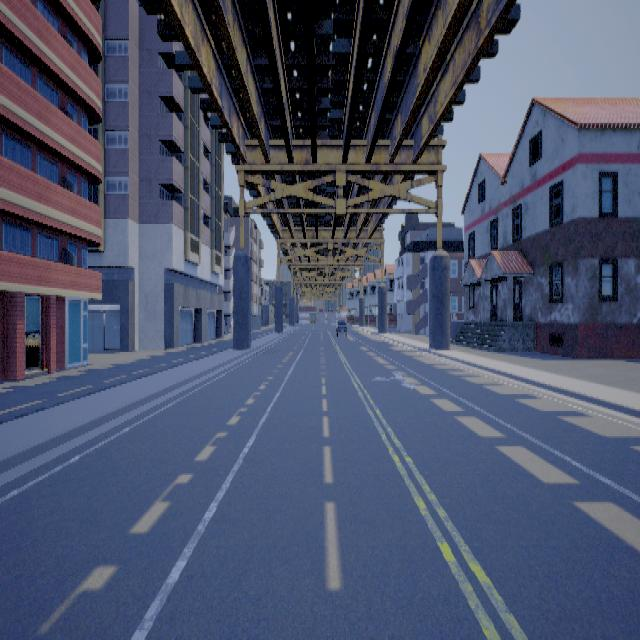vehicle: (335, 317, 349, 335)
